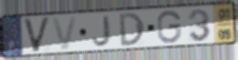3: (186, 7, 212, 44)
D: (118, 11, 147, 48)
G: (156, 9, 183, 45)
J: (91, 14, 112, 48)
V: (22, 16, 53, 55), (50, 15, 79, 52)
